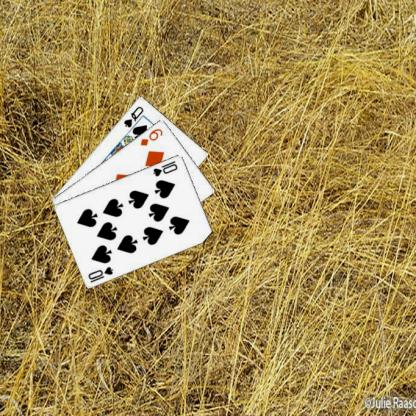10S: (85, 264, 115, 284), (150, 158, 179, 177)
6D: (138, 126, 164, 147)
QS: (120, 103, 144, 129)
